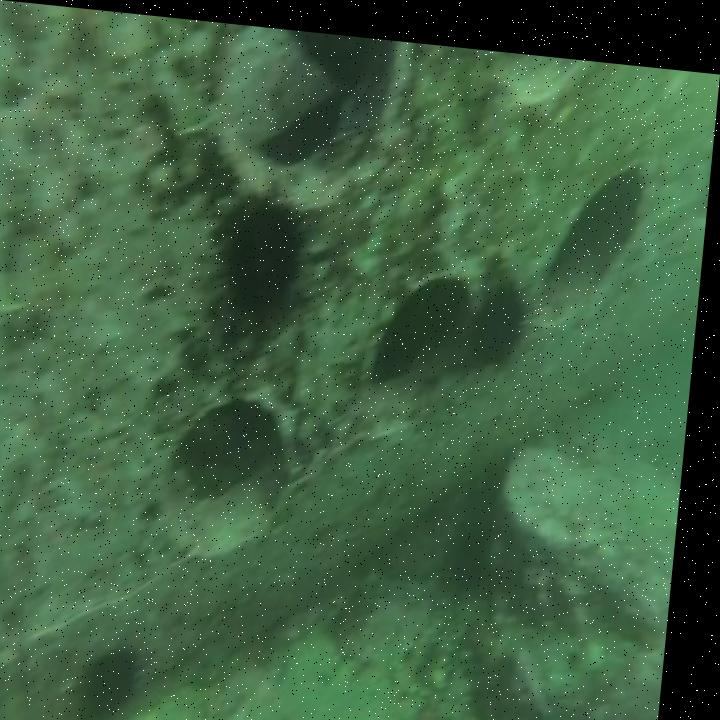echinus: (222, 184, 308, 328), (467, 257, 534, 370), (95, 638, 160, 720)
starfish: (408, 677, 471, 720)
